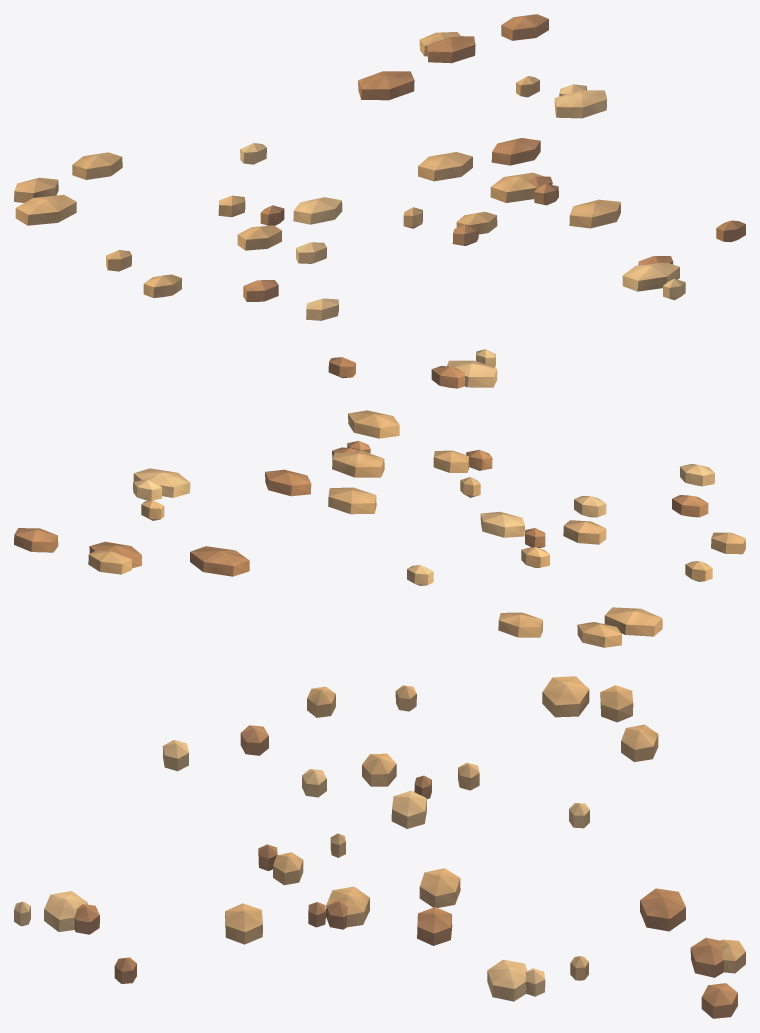
Rendered from fertilized_soil.glb.
3 views of the same model, one above another, from view 1: azimuth 30°, elevation 25°; view 2: azimuth 150°, elevation 25°; view 3: azimuth 270°, elevation 25° (orthographic). The views are drawn at different scales.
Visible parts, largest first — view 1: Mulch · Warme Holzspäne im Beet; view 2: Mulch · Warme Holzspäne im Beet; view 3: Mulch · Warme Holzspäne im Beet.
Boxes of the visible parts, left/top/right/bottom form: Mulch · Warme Holzspäne im Beet: left=14, top=14, right=745, bottom=320; Mulch · Warme Holzspäne im Beet: left=14, top=349, right=745, bottom=647; Mulch · Warme Holzspäne im Beet: left=14, top=676, right=745, bottom=1018.
Bounding box in the file's own units: 1.26 × 0.044 × 1.18.
Materials: 1 (1 with a texture image).
